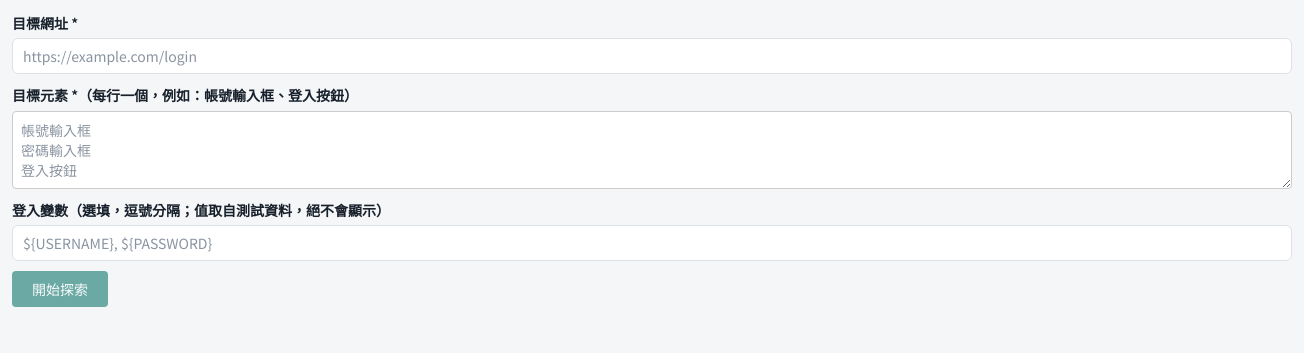
Test: PageExplorer › shows error when launch fails
Type "https://example.com/" into the field with test id "explore-url".
click(652, 56); type("https://example.com/")  # box [12, 38, 1292, 74]
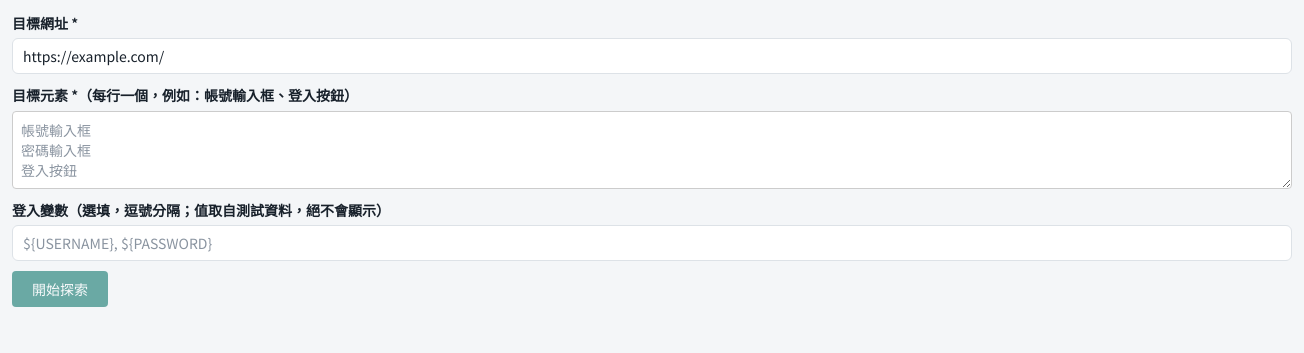
Type "登入按鈕" into the text box with test id "explore-goals".
click(652, 150); type("登入按鈕")  # box [12, 111, 1292, 189]
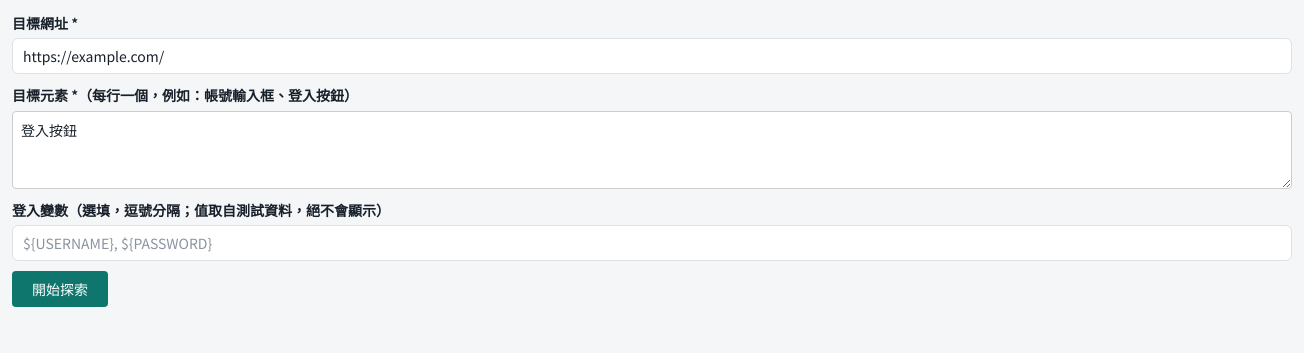
Click the button with test id "explore-launch-btn".
click(60, 289)  # box [12, 271, 108, 307]
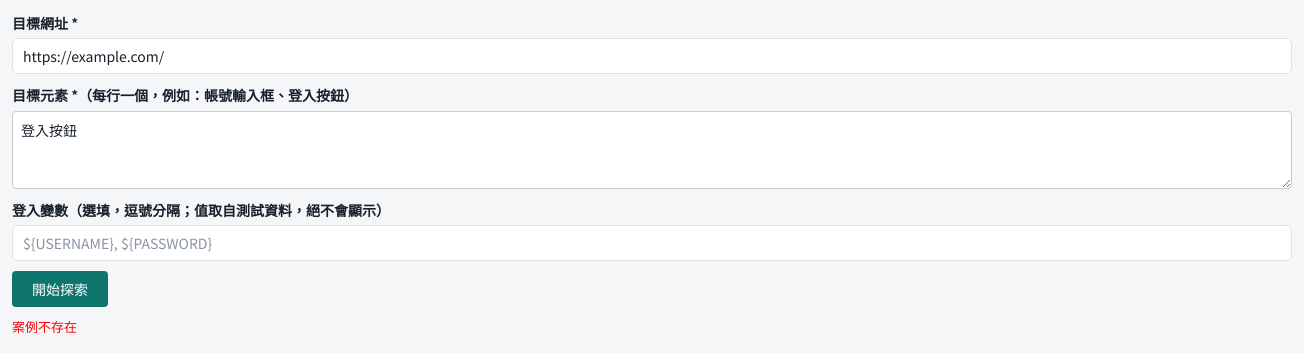
Now the text with test id "explore-error" reads "案例不存在", box [12, 317, 77, 336]
